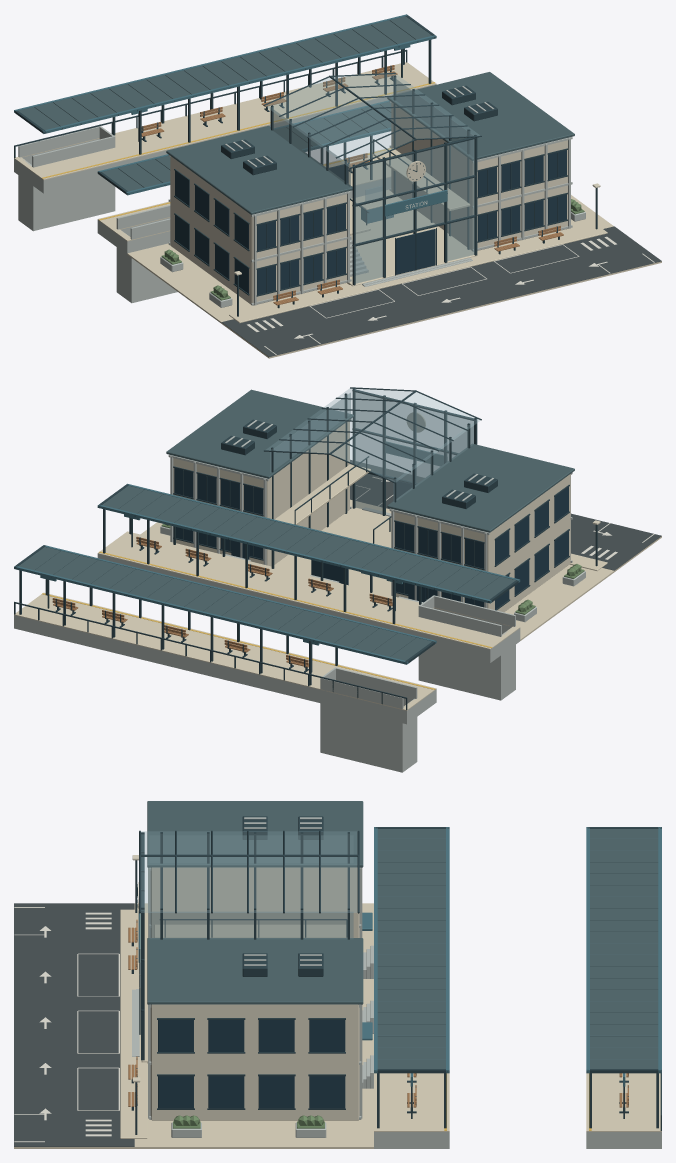
Rendered from train-station-01-v2.glb.
3 renders of one model, top to bottom at view 1: azimuth 30°, elevation 25°; view 2: azimuth 150°, elevation 25°; view 3: azimuth 270°, elevation 25°, orthographic. The views are drawn at different scales.
Visible parts, largest first — view 1: DropOffAsphalt, WingRoof, WingRoof.001, TwoStoreyWing.001, TwoStoreyWing, PlatformPaving.005, AtriumGlassRoof, FrontSectionBase, AtriumGlassRoof.001, WellWallOuter.001, AtriumFloor, FrontPedestrianPlaza (+55 smaller); view 2: WingRoof, PlatformPaving.001, WingRoof.001, PlatformPaving.005, AtriumGlassRoof, TwoStoreyWing.001, WellWallInner.001, TwoStoreyWing, PlatformBody.005, DropOffAsphalt, AtriumGlassRoof.001, WellWallInner (+29 smaller); view 3: DropOffAsphalt, TwoStoreyWing.001, WingRoof.001, WingRoof, AtriumGlassRoof.001, TwoStoreyWing, FrontSectionBase, AtriumSideUpperGlass.001, AtriumGlassRoof, AtriumSideUpperGlass, FrontPedestrianPlaza, PlatformPaving.001 (+64 smaller).
Boxes of the visible parts, <box> form: DropOffAsphalt: <box>221,226,661,356</box>; WingRoof: <box>166,125,352,214</box>; WingRoof.001: <box>387,72,574,160</box>; TwoStoreyWing.001: <box>391,102,567,250</box>; TwoStoreyWing: <box>170,156,346,305</box>; PlatformPaving.005: <box>99,62,436,159</box>; AtriumGlassRoof: <box>265,77,413,167</box>; FrontSectionBase: <box>127,189,661,358</box>; AtriumGlassRoof.001: <box>333,74,479,138</box>; WellWallOuter.001: <box>32,136,115,227</box>; AtriumFloor: <box>347,193,477,286</box>; FrontPedestrianPlaza: <box>229,225,607,323</box>; WingRoof: <box>387,443,574,532</box>; PlatformPaving.001: <box>97,531,433,628</box>; WingRoof.001: <box>166,389,353,478</box>; PlatformPaving.005: <box>14,592,351,689</box>; AtriumGlassRoof: <box>332,392,480,481</box>; TwoStoreyWing.001: <box>173,420,349,566</box>; WellWallInner.001: <box>320,678,403,769</box>; TwoStoreyWing: <box>394,474,570,612</box>; PlatformBody.005: <box>14,615,321,703</box>; DropOffAsphalt: <box>350,459,661,570</box>; AtriumGlassRoof.001: <box>266,388,412,452</box>; WellWallInner: <box>418,605,501,697</box>; DropOffAsphalt: <box>14,903,134,1146</box>; TwoStoreyWing.001: <box>150,1004,359,1120</box>; WingRoof.001: <box>147,938,363,1004</box>; WingRoof: <box>147,801,363,867</box>; AtriumGlassRoof.001: <box>141,857,357,912</box>; TwoStoreyWing: <box>150,867,359,937</box>; FrontSectionBase: <box>14,903,373,1148</box>; AtriumSideUpperGlass.001: <box>149,912,353,939</box>; AtriumGlassRoof: <box>141,831,357,854</box>; AtriumSideUpperGlass: <box>149,835,353,862</box>; FrontPedestrianPlaza: <box>120,909,147,1138</box>; PlatformPaving.001: <box>374,1073,449,1131</box>.
Size of the model in its own units: 32 by 14.41 by 36.
